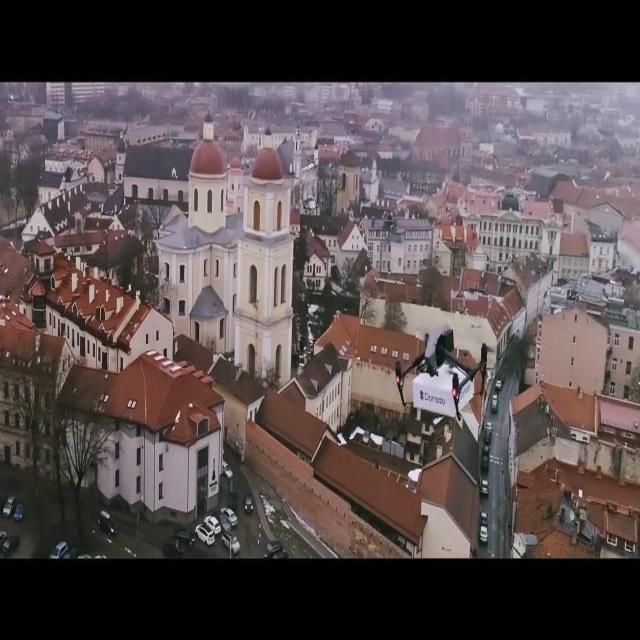UAV: (395, 324, 495, 422)
